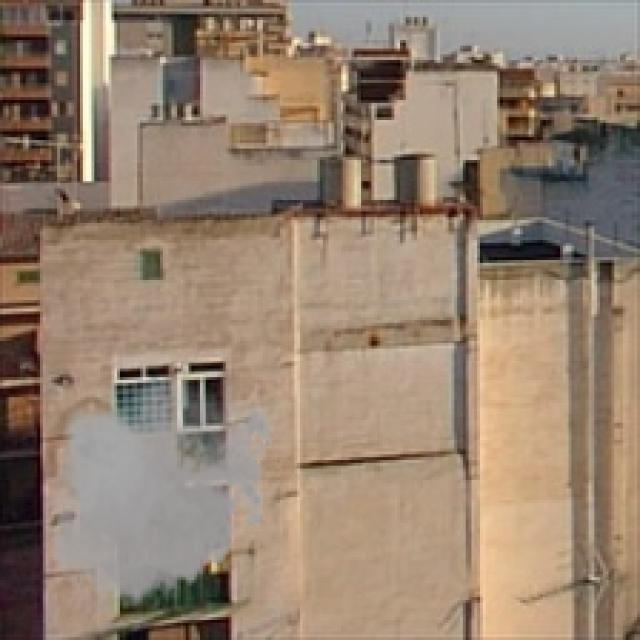smoke: (43, 366, 280, 617)
